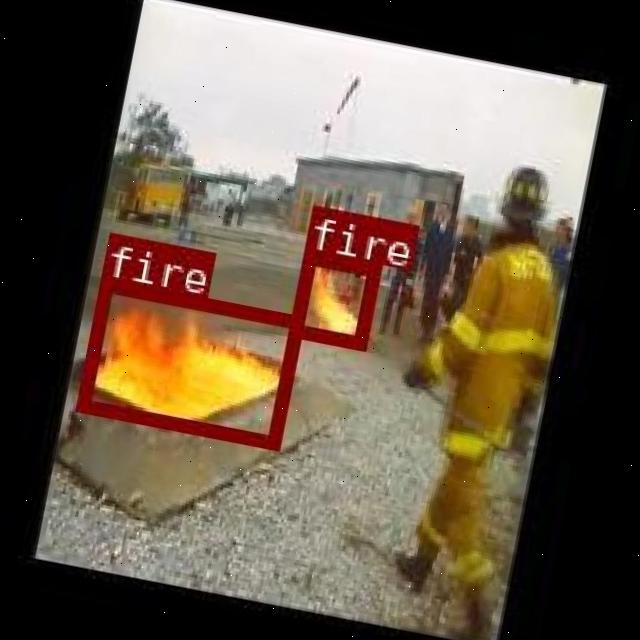fire: (75, 278, 303, 446), (286, 248, 378, 346)
